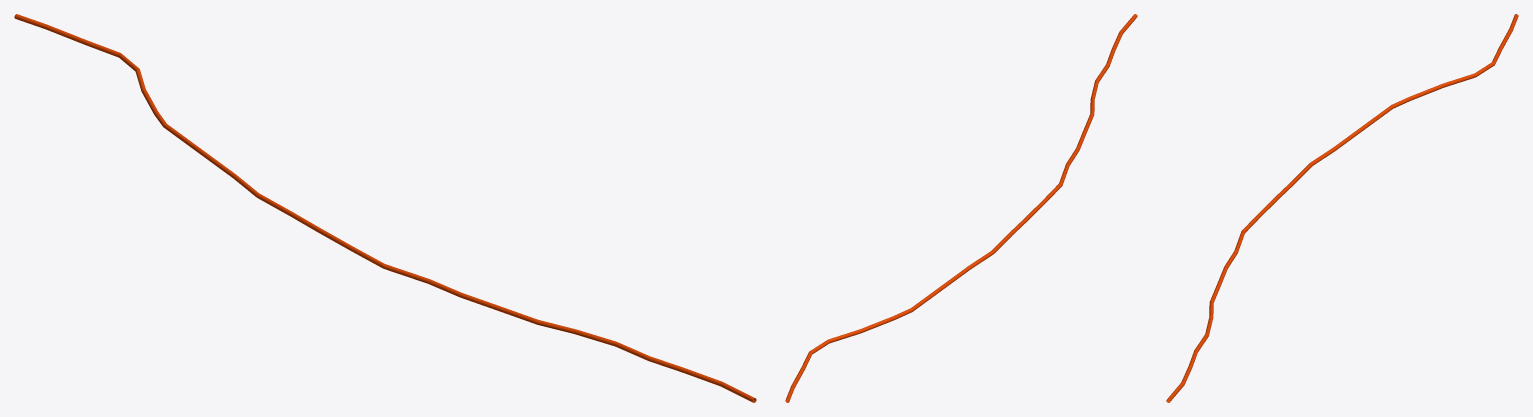
File: Cable13.fbx
3 views of the same model, side by side, from view 1: azimuth 30°, elevation 25°; view 2: azimuth 150°, elevation 25°; view 3: azimuth 330°, elevation 25° (orthographic). The views are drawn at different scales.
Visible parts, largest first — view 1: Vert.012; view 2: Vert.012; view 3: Vert.012.
Boxes of the visible parts, x1,y1,x2,y2 form: Vert.012: [14, 14, 756, 402]; Vert.012: [785, 14, 1137, 402]; Vert.012: [1166, 14, 1518, 402].
Bounding box in the file's own units: 75.8 × 2 × 456.
